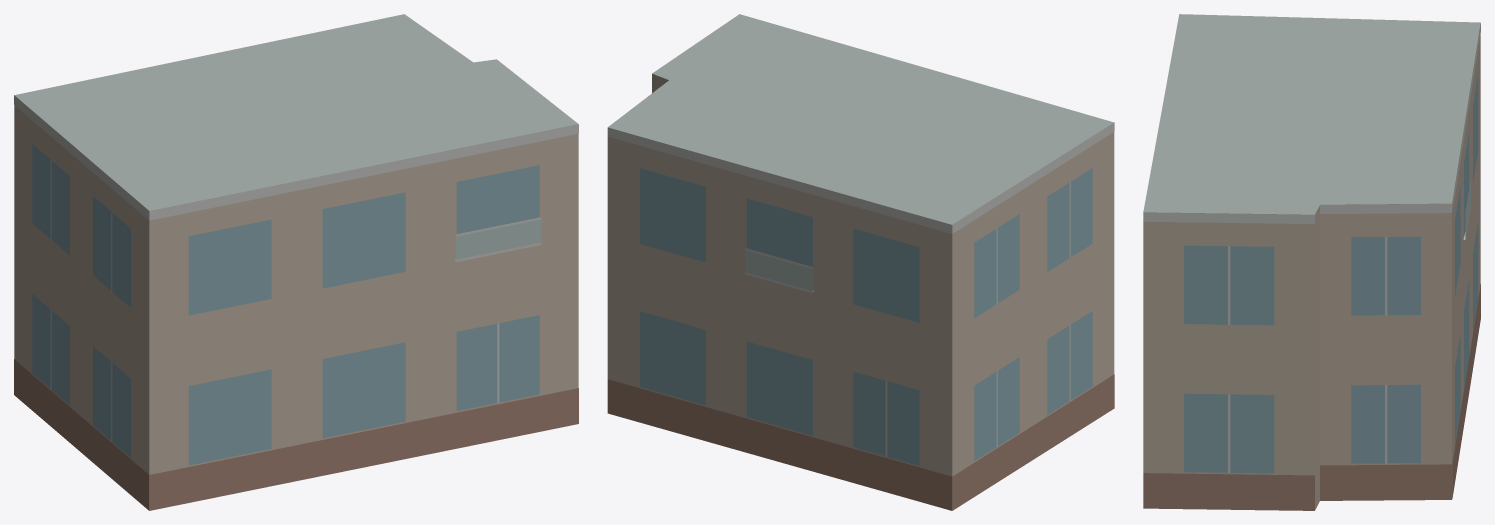
The model's file is survey-upis-32630332.glb.
3 views of the same model, side by side, from view 1: azimuth 30°, elevation 25°; view 2: azimuth 150°, elevation 25°; view 3: azimuth 270°, elevation 25° (orthographic). The views are drawn at different scales.
Parts seen in each view (by area): view 1: survey-upis-32630332.tmp; view 2: survey-upis-32630332.tmp; view 3: survey-upis-32630332.tmp.
Boxes of the visible parts, x1,y1,x2,y2 form: survey-upis-32630332.tmp: (14,14,578,510); survey-upis-32630332.tmp: (607,14,1114,510); survey-upis-32630332.tmp: (1143,14,1480,510).
Bounding box in the file's own units: 11.05 × 7.6 × 7.86.
